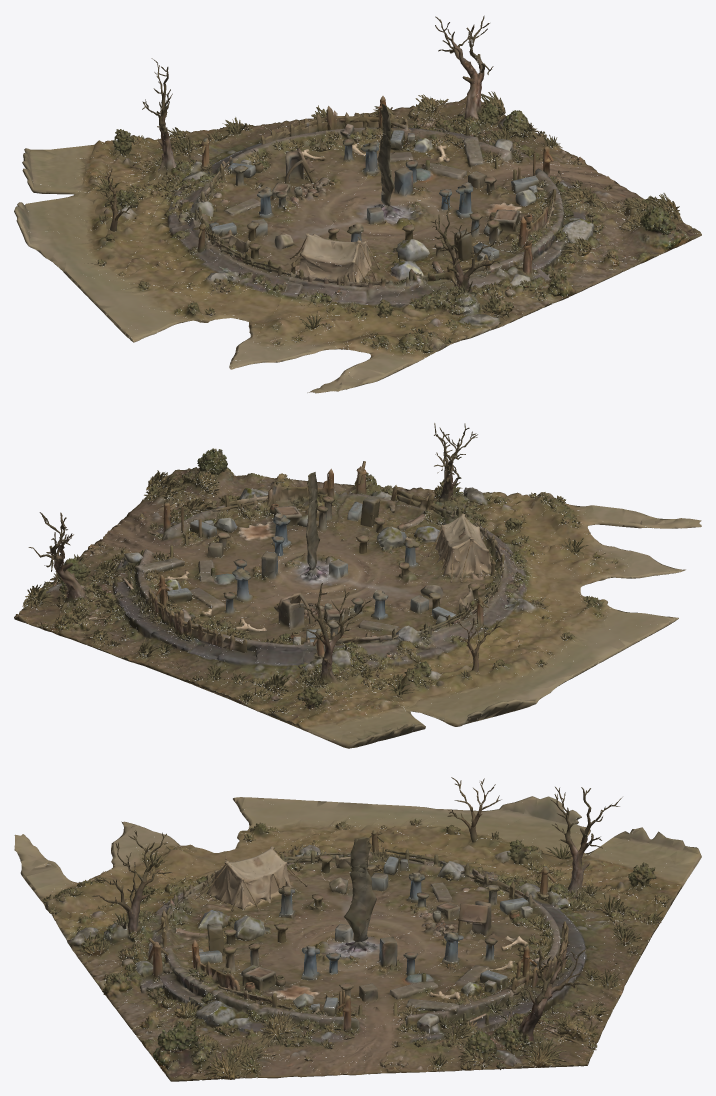
Rendered from tripo_wild_detail_lod.glb.
3 views of the same model, one above another, from view 1: azimuth 30°, elevation 25°; view 2: azimuth 150°, elevation 25°; view 3: azimuth 270°, elevation 25° (orthographic). The views are drawn at different scales.
Parts seen in each view (by area): view 1: tripo_node_5ce3ce70-66c2-43e5-acab-eee5e435a589; view 2: tripo_node_5ce3ce70-66c2-43e5-acab-eee5e435a589; view 3: tripo_node_5ce3ce70-66c2-43e5-acab-eee5e435a589.
Boxes of the visible parts, left/top/right/bottom form: tripo_node_5ce3ce70-66c2-43e5-acab-eee5e435a589: left=14, top=15, right=701, bottom=393; tripo_node_5ce3ce70-66c2-43e5-acab-eee5e435a589: left=14, top=423, right=701, bottom=748; tripo_node_5ce3ce70-66c2-43e5-acab-eee5e435a589: left=14, top=777, right=701, bottom=1081.
Bounding box in the file's own units: 0.948 × 0.2035 × 0.9804.
Materials: 1 (1 with a texture image).
